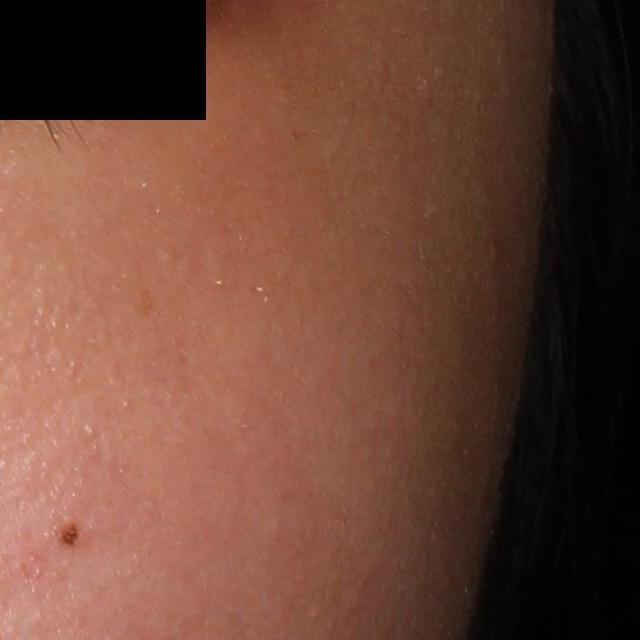nevus: (55, 515, 87, 550)
